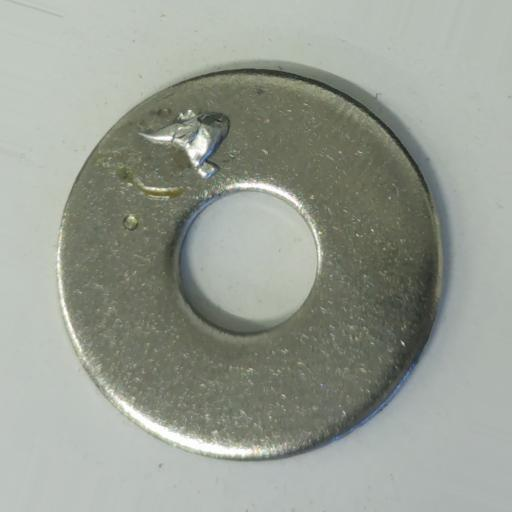excess_material: (137, 106, 231, 180)
